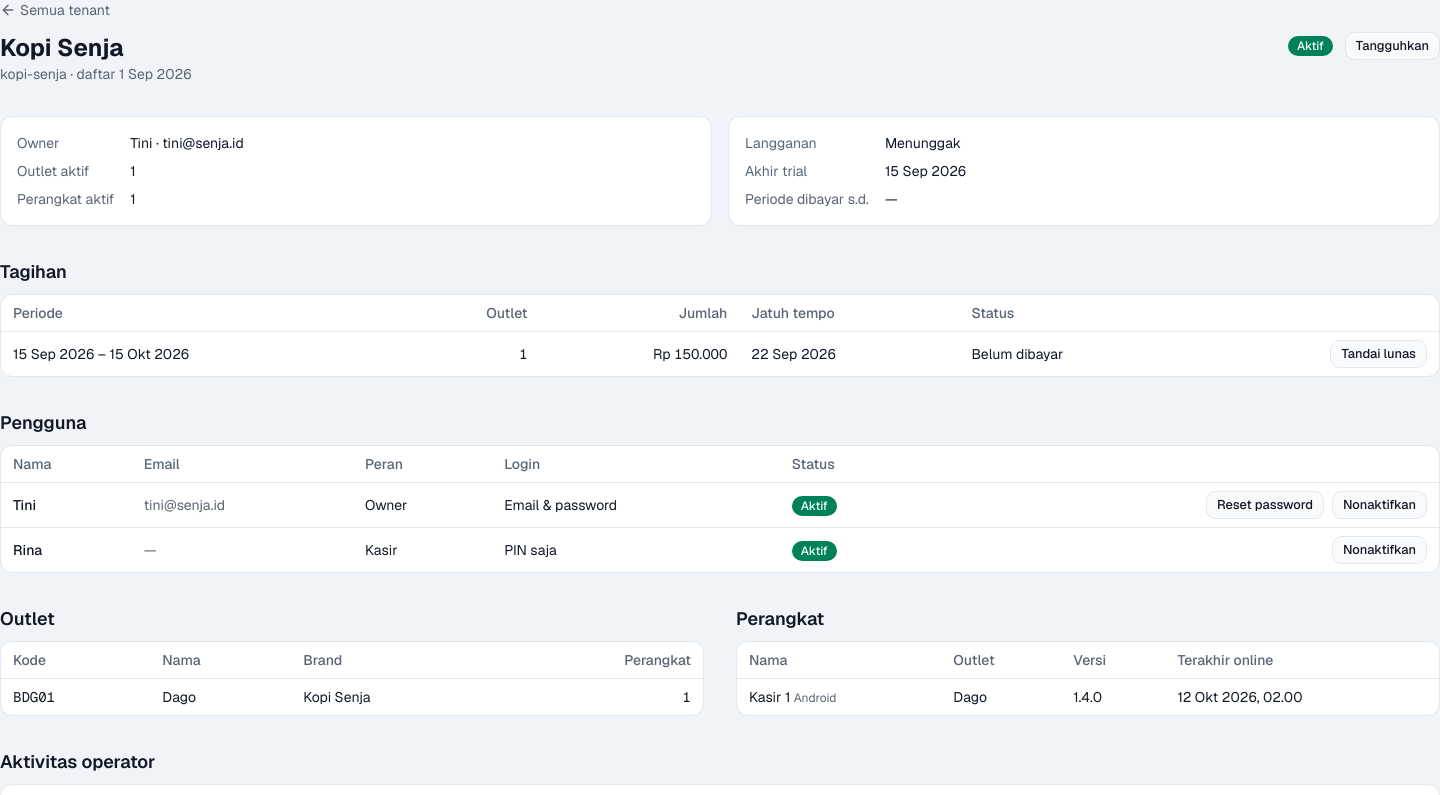
Test: TenantDetailScreen › resets a password and shows the temporary one once
Click the button with aria-label "Reset password Tini" at (1265, 505), box 1206,491 -> 1324,519
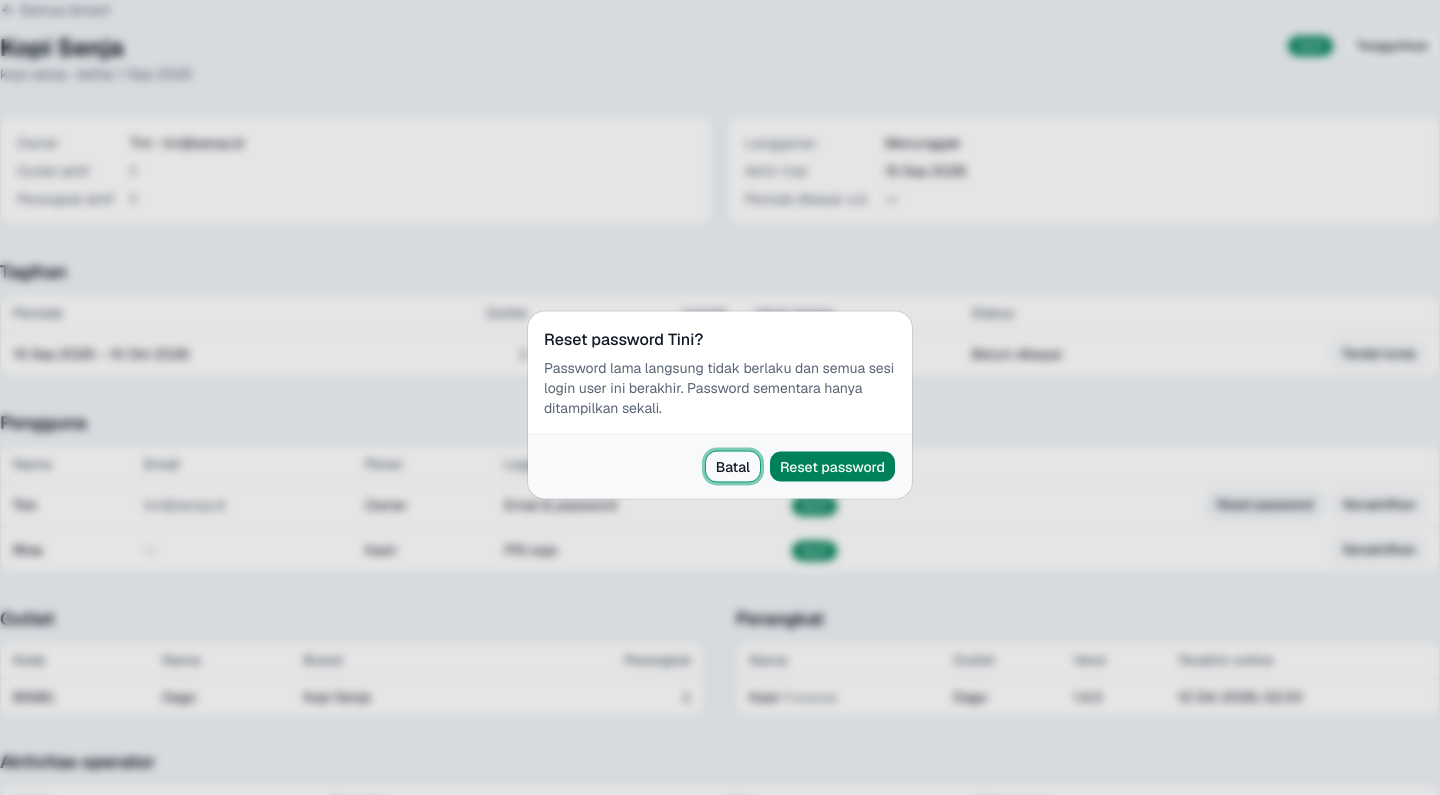
Click the button "Reset password" at (832, 466), box 769,450 -> 896,482
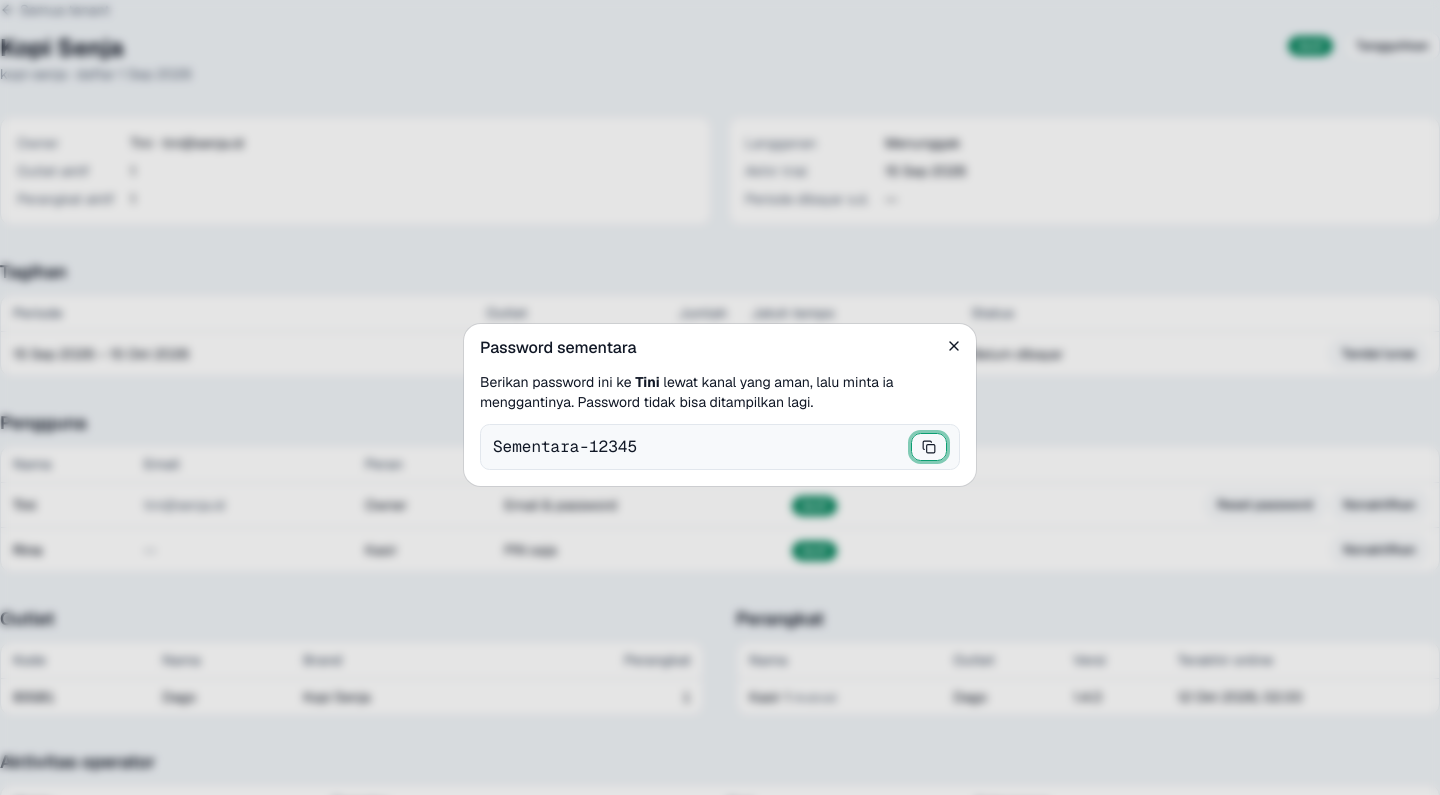
Now the text "Sementara-12345" is shown, box 493,436 -> 637,457
